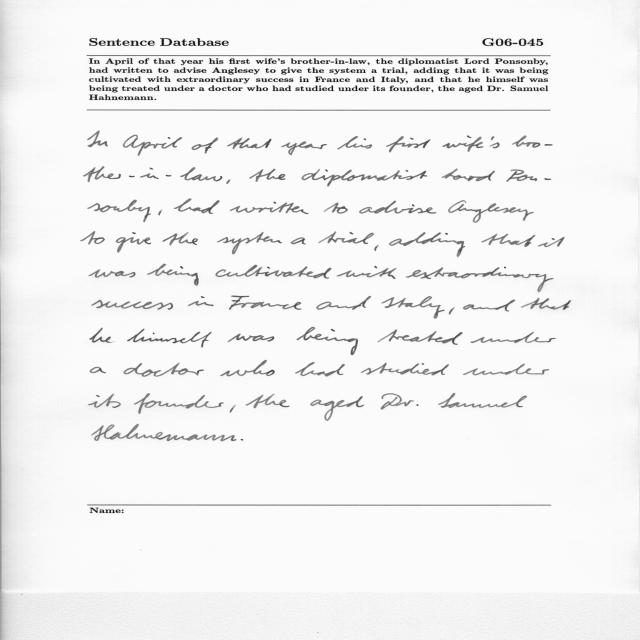word: (406, 267, 553, 292), (92, 424, 237, 441), (302, 169, 428, 187), (84, 167, 223, 182), (448, 200, 534, 223), (389, 232, 465, 257), (134, 393, 224, 414), (296, 327, 358, 355), (216, 265, 332, 279), (127, 329, 212, 348), (381, 296, 445, 319), (217, 232, 282, 254), (88, 200, 151, 222), (378, 329, 463, 345), (310, 396, 364, 421), (438, 393, 527, 408), (123, 135, 182, 156), (147, 264, 199, 286), (361, 363, 449, 376), (123, 363, 204, 377), (359, 200, 437, 214), (229, 296, 302, 310), (442, 135, 500, 152), (230, 202, 309, 214), (463, 364, 549, 375), (471, 332, 556, 343), (220, 361, 275, 377), (92, 300, 173, 310), (337, 266, 397, 279), (317, 296, 372, 310), (386, 136, 431, 153), (116, 232, 151, 253), (318, 231, 374, 244), (482, 234, 536, 247), (295, 362, 345, 376), (174, 199, 220, 214), (442, 169, 495, 182), (381, 393, 419, 410), (281, 142, 327, 156), (463, 300, 515, 312), (246, 394, 290, 408), (521, 298, 571, 310), (506, 169, 551, 182), (512, 135, 553, 148), (227, 138, 272, 149), (249, 169, 286, 182), (163, 233, 199, 246), (88, 394, 121, 408), (337, 136, 372, 149), (89, 269, 136, 278), (192, 138, 218, 154), (90, 327, 114, 343), (228, 334, 274, 342), (80, 232, 105, 245), (88, 131, 108, 147), (324, 202, 348, 214), (538, 237, 565, 247), (188, 296, 214, 306), (291, 238, 306, 245), (90, 367, 106, 373), (230, 405, 236, 412), (449, 308, 454, 315), (374, 245, 379, 251), (226, 179, 231, 184), (158, 210, 162, 215), (241, 439, 243, 440)
